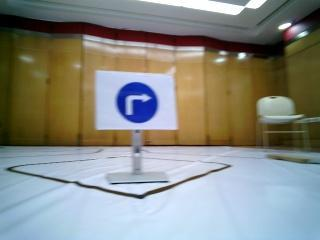right: (101, 74, 175, 133)
